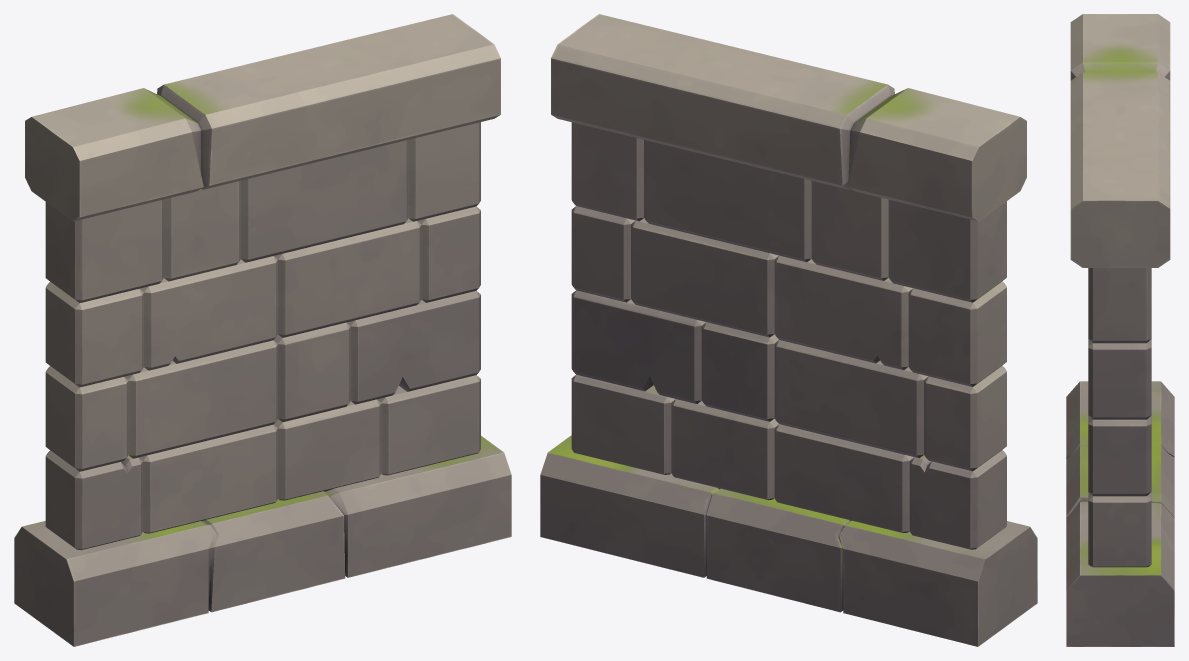
File: 01-02_Wall0.fbx
3 views of the same model, side by side, from view 1: azimuth 30°, elevation 25°; view 2: azimuth 150°, elevation 25°; view 3: azimuth 270°, elevation 25° (orthographic). The views are drawn at different scales.
Parts seen in each view (by area): view 1: 01-02_Wall0; view 2: 01-02_Wall0; view 3: 01-02_Wall0.
Part boxes in pixels (x1=…): 01-02_Wall0: x1=14, y1=14, x2=511, y2=646; 01-02_Wall0: x1=540, y1=14, x2=1037, y2=646; 01-02_Wall0: x1=1066, y1=14, x2=1174, y2=646.
Size of the model in its own units: 3.54 by 3.81 by 0.8334.
Materials: 1 (1 with a texture image).
